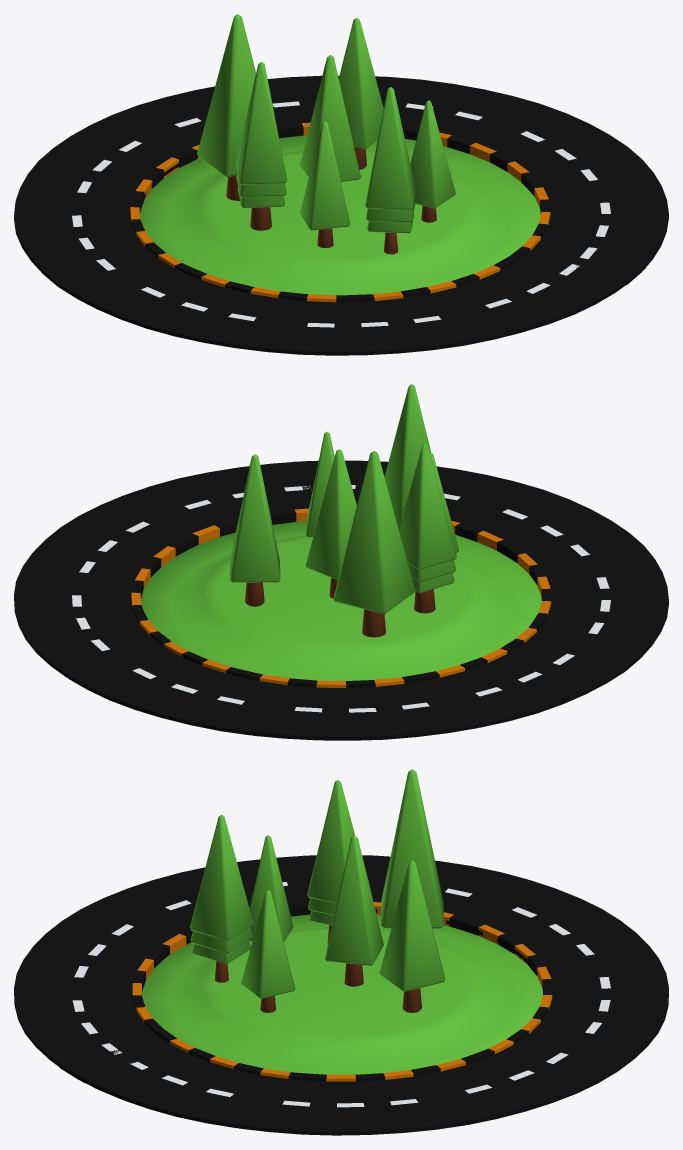
Rendered from Road_Roundabout_01.fbx.
The picture shows the model from 3 angles, top to bottom: view 1: azimuth 30°, elevation 25°; view 2: azimuth 150°, elevation 25°; view 3: azimuth 270°, elevation 25°; orthographic projection.
Parts seen in each view (by area): view 1: Road_Roundabout_01; view 2: Road_Roundabout_01; view 3: Road_Roundabout_01.
Part boxes in pixels (left/top/right/bottom): Road_Roundabout_01: left=14, top=14, right=668, bottom=355; Road_Roundabout_01: left=14, top=384, right=668, bottom=740; Road_Roundabout_01: left=14, top=769, right=668, bottom=1135.
Bounding box in the file's own units: 21.97 × 7.83 × 21.93.
